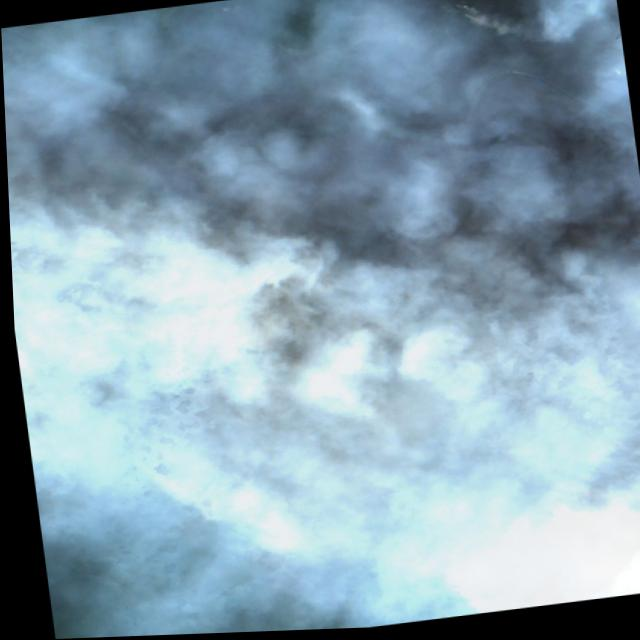fire: (68, 245, 306, 596), (355, 427, 640, 628)
